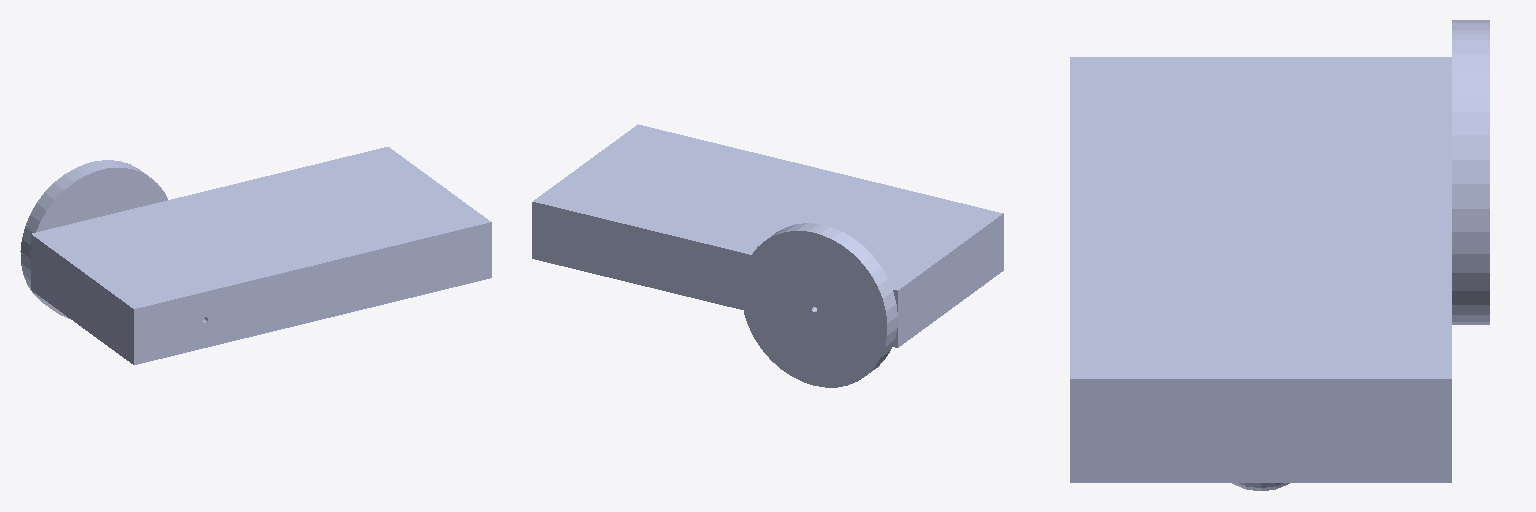
The robot description file, URDF, robot "minicar":
<robot
  name="minicar">
  <link
    name="base_link">
    <inertial>
      <origin
        xyz="0.060886 7.494E-16 -0.01524"
        rpy="0 0 0" />
      <mass
        value="0.60636" />
      <inertia
        ixx="0"
        ixy="0"
        ixz="0"
        iyy="0"
        iyz="0"
        izz="0" />
    </inertial>
    <visual>
      <origin
        xyz="0 0 0"
        rpy="0 0 0" />
      <geometry>
        <mesh
          filename="package://minicar/meshes/base_link.STL" />
      </geometry>
      <material
        name="">
        <color
          rgba="0.79216 0.81961 0.93333 1" />
      </material>
    </visual>
    <collision>
      <origin
        xyz="0 0 0"
        rpy="0 0 0" />
      <geometry>
        <mesh
          filename="package://minicar/meshes/base_link.STL" />
      </geometry>
    </collision>
  </link>
  <link
    name="l_wh">
    <inertial>
      <origin
        xyz="-1.3878E-17 -0.005 -5.5511E-17"
        rpy="0 0 0" />
      <mass
        value="0.050195" />
      <inertia
        ixx="0"
        ixy="0"
        ixz="0"
        iyy="0"
        iyz="0"
        izz="0" />
    </inertial>
    <visual>
      <origin
        xyz="0 0 0"
        rpy="0 0 0" />
      <geometry>
        <mesh
          filename="package://minicar/meshes/l_wh.STL" />
      </geometry>
      <material
        name="">
        <color
          rgba="0.79216 0.81961 0.93333 1" />
      </material>
    </visual>
    <collision>
      <origin
        xyz="0 0 0"
        rpy="0 0 0" />
      <geometry>
        <mesh
          filename="package://minicar/meshes/l_wh.STL" />
      </geometry>
    </collision>
  </link>
  <joint
    name="j1"
    type="continuous">
    <origin
      xyz="0 0.06 -0.015"
      rpy="0 0 6.9389E-17" />
    <parent
      link="base_link" />
    <child
      link="l_wh" />
    <axis
      xyz="0 -1 0" />
  </joint>
  <link
    name="r_wl" />
  <joint
    name="j2"
    type="continuous">
    <origin
      xyz="0 -0.06 -0.015"
      rpy="0 0 6.9389E-17" />
    <parent
      link="base_link" />
    <child
      link="r_wl" />
    <axis
      xyz="0 0 0" />
  </joint>
</robot>

--- What the picture shows (computed from the rendered views, not written in the file) ---
3 views of the same robot in one strip: view 1: azimuth 30°, elevation 25°; view 2: azimuth 150°, elevation 25°; view 3: azimuth 270°, elevation 25° (orthographic).
Robot: minicar — 3 links, 2 joints (2 continuous); root link base_link; default pose: every joint at zero.
Visible links, largest first — view 1: base_link, l_wh; view 2: base_link, l_wh; view 3: base_link, l_wh.
Boxes of the visible links, left/top/right/bottom form: base_link: left=31, top=147, right=491, bottom=364; l_wh: left=20, top=160, right=167, bottom=318; base_link: left=532, top=124, right=1003, bottom=347; l_wh: left=741, top=223, right=897, bottom=387; base_link: left=1070, top=57, right=1451, bottom=490; l_wh: left=1452, top=20, right=1489, bottom=324.
Size in the robot's own frame: 0.2 by 0.11 by 0.08 metres.
2 mesh visuals loaded from 2 distinct referenced files (2 binary STL).